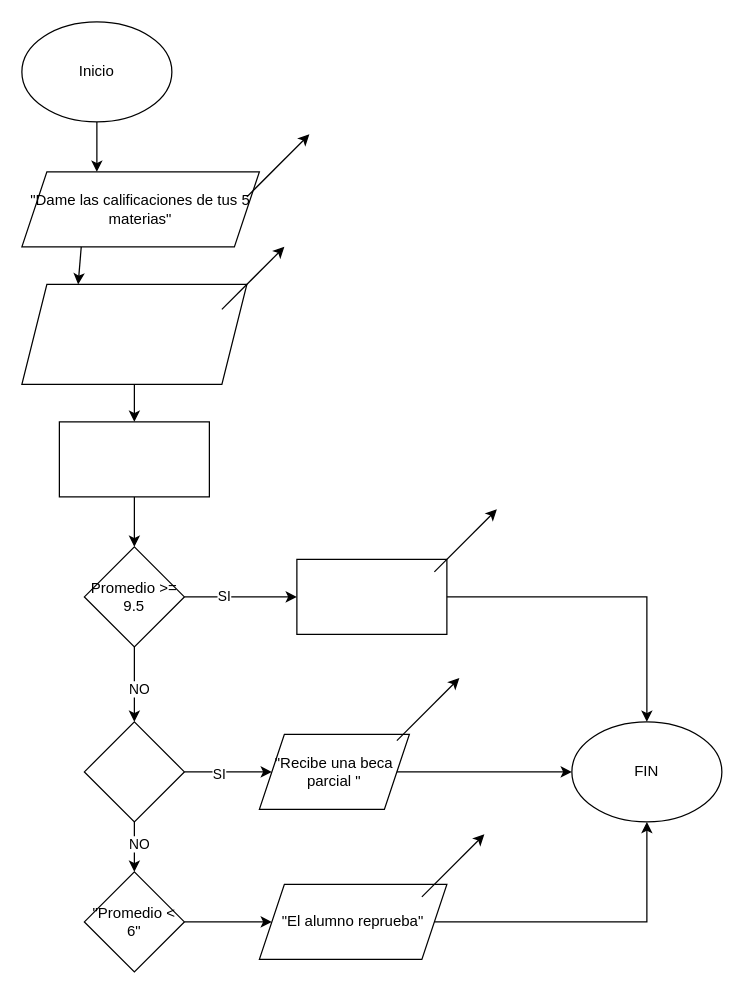
Image size: 744x994. Some labels were removed from this diagram. Here are the shapes that lost their labels. From the top down, the centre of each, then its label:
point (134, 333): Leer c1 Leer c2 Leer c3 Leer c4 Leer c5
point (133, 459): Promedio = c1 + c2 + c3 + c4 + c5 / 5
point (371, 596): "El alumno recibe beca completa"
point (133, 771): "Promedio >= 8"
